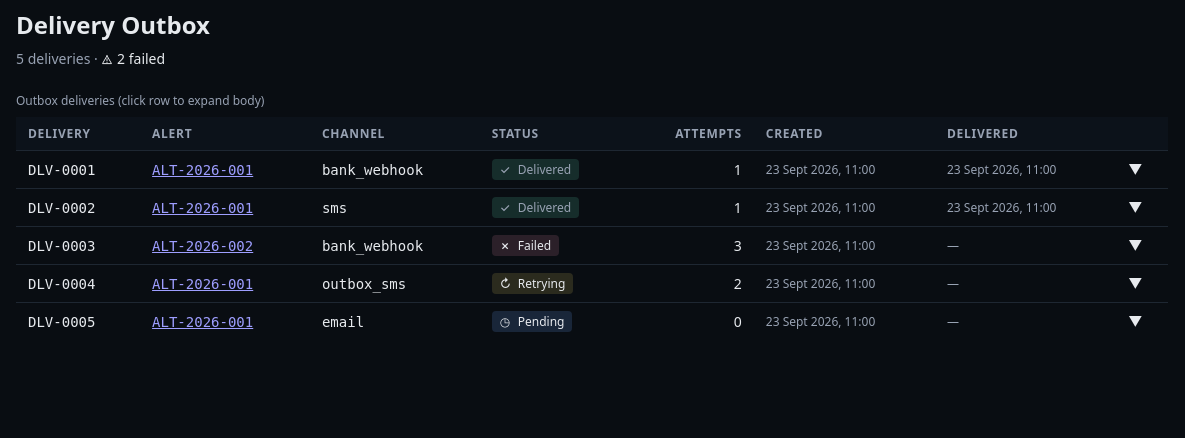
OutboxPage (Step C7) › shows the last_error for a dead delivery when expanded
Check: the element with test id "outbox-table" is shown, box [16,92,1168,340]
Click the row with test id "outbox-row-DLV-0003": (592, 246) [16,226,1168,264]
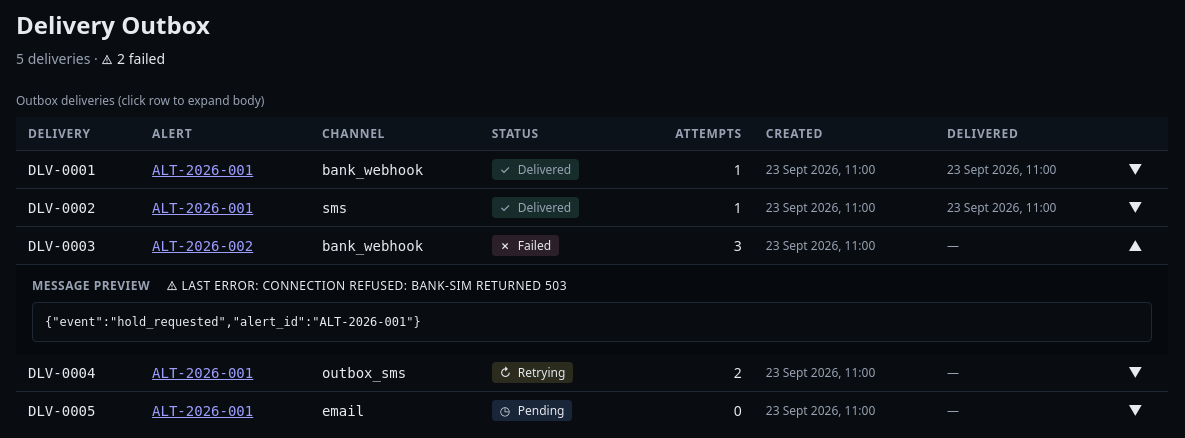
Check: the row with test id "outbox-body-DLV-0003" is shown, box [16,264,1168,354]
Check: the text "Last error: Connection refused: bank-sim returned 503" is shown, box [166,277,567,294]
